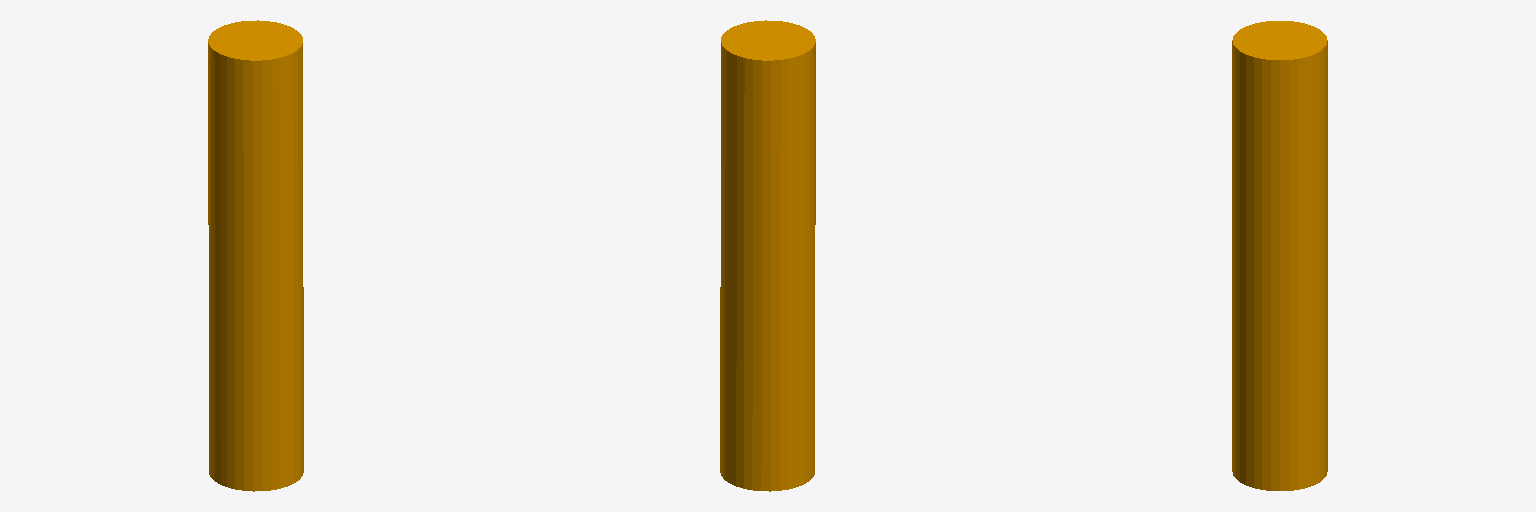
URDF robot description (ur5e):
<?xml version="1.0" encoding="utf-8"?>
<!-- =================================================================================== -->
<!-- |    This document was autogenerated by xacro from ur5e_robot.urdf.xacro          | -->
<!-- |    EDITING THIS FILE BY HAND IS NOT RECOMMENDED                                 | -->
<!-- =================================================================================== -->
<robot name="ur5e" xmlns:xacro="http://ros.org/wiki/xacro">
  <link name="base_link">
    <visual>
      <geometry>
        <mesh filename="../meshes/ur5e/visual/base.dae"/>
      </geometry>
      <material name="LightGrey">
        <color rgba="0.7 0.7 0.7 1.0"/>
      </material>
    </visual>
    <collision>
      <geometry>
        <mesh filename="../meshes/ur5e/collision/base.stl" scale="1.0 1.0 1.0"/>
      </geometry>
    </collision>
    <inertial>
      <mass value="4.0"/>
      <origin rpy="0 0 0" xyz="0.0 0.0 0.0"/>
      <inertia ixx="0.00443333156" ixy="0.0" ixz="0.0" iyy="0.00443333156" iyz="0.0" izz="0.0072"/>
    </inertial>
  </link>
  <joint name="shoulder_pan_joint" type="revolute">
    <parent link="base_link"/>
    <child link="shoulder_link"/>
    <origin rpy="0.0 0.0 0.0" xyz="0.0 0.0 0.163"/>
    <axis xyz="0 0 1"/>
    <limit effort="150.0" lower="-6.28318530718" upper="6.28318530718" velocity="3.14"/>
    <dynamics damping="0.0" friction="0.0"/>
  </joint>
  <link name="shoulder_link">
    <visual>
      <geometry>
        <mesh filename="../meshes/ur5e/visual/shoulder.dae"/>
      </geometry>
      <material name="LightGrey">
        <color rgba="0.7 0.7 0.7 1.0"/>
      </material>
    </visual>
    <collision>
      <geometry>
        <mesh filename="../meshes/ur5e/collision/shoulder.stl" scale="1.0 1.0 1.0"/>
      </geometry>
    </collision>
    <inertial>
      <mass value="3.7"/>
      <origin rpy="0 0 0" xyz="0.0 0.0 0.0"/>
      <inertia ixx="0.010267495893" ixy="0.0" ixz="0.0" iyy="0.010267495893" iyz="0.0" izz="0.00666"/>
    </inertial>
  </link>
  <joint name="shoulder_lift_joint" type="revolute">
    <parent link="shoulder_link"/>
    <child link="upper_arm_link"/>
    <origin rpy="0.0 1.57079632679 0.0" xyz="0.0 0.138 0.0"/>
    <axis xyz="0 1 0"/>
    <limit effort="150.0" lower="-6.28318530718" upper="6.28318530718" velocity="3.14"/>
    <dynamics damping="0.0" friction="0.0"/>
  </joint>
  <link name="upper_arm_link">
    <visual>
      <geometry>
        <mesh filename="../meshes/ur5e/visual/upperarm.dae"/>
      </geometry>
      <material name="LightGrey">
        <color rgba="0.7 0.7 0.7 1.0"/>
      </material>
    </visual>
    <collision>
      <geometry>
        <mesh filename="../meshes/ur5e/collision/upperarm.stl" scale="1.0 1.0 1.0"/>
      </geometry>
    </collision>
    <inertial>
      <mass value="8.393"/>
      <origin rpy="0 0 0" xyz="0.0 0.0 0.2125"/>
      <inertia ixx="0.133885781862" ixy="0.0" ixz="0.0" iyy="0.133885781862" iyz="0.0" izz="0.0151074"/>
    </inertial>
  </link>
  <joint name="elbow_joint" type="revolute">
    <parent link="upper_arm_link"/>
    <child link="forearm_link"/>
    <origin rpy="0.0 0.0 0.0" xyz="0.0 -0.131 0.425"/>
    <axis xyz="0 1 0"/>
    <limit effort="150.0" lower="-3.14159265359" upper="3.14159265359" velocity="3.14"/>
    <dynamics damping="0.0" friction="0.0"/>
  </joint>
  <link name="forearm_link">
    <visual>
      <geometry>
        <mesh filename="../meshes/ur5e/visual/forearm.dae"/>
      </geometry>
      <material name="LightGrey">
        <color rgba="0.7 0.7 0.7 1.0"/>
      </material>
    </visual>
    <collision>
      <geometry>
        <mesh filename="../meshes/ur5e/collision/forearm.stl" scale="1.0 1.0 1.0"/>
      </geometry>
    </collision>
    <inertial>
      <mass value="2.275"/>
      <origin rpy="0 0 0" xyz="0.0 0.0 0.196"/>
      <inertia ixx="0.0311796208615" ixy="0.0" ixz="0.0" iyy="0.0311796208615" iyz="0.0" izz="0.004095"/>
    </inertial>
  </link>
  <joint name="wrist_1_joint" type="revolute">
    <parent link="forearm_link"/>
    <child link="wrist_1_link"/>
    <origin rpy="0.0 1.57079632679 0.0" xyz="0.0 0.0 0.392"/>
    <axis xyz="0 1 0"/>
    <limit effort="28.0" lower="-6.28318530718" upper="6.28318530718" velocity="6.28"/>
    <dynamics damping="0.0" friction="0.0"/>
  </joint>
  <link name="wrist_1_link">
    <visual>
      <geometry>
        <mesh filename="../meshes/ur5e/visual/wrist1.dae"/>
      </geometry>
      <material name="LightGrey">
        <color rgba="0.7 0.7 0.7 1.0"/>
      </material>
    </visual>
    <collision>
      <geometry>
        <mesh filename="../meshes/ur5e/collision/wrist1.stl" scale="1.0 1.0 1.0"/>
      </geometry>
    </collision>
    <inertial>
      <mass value="1.219"/>
      <origin rpy="0 0 0" xyz="0.0 0.127 0.0"/>
      <inertia ixx="0.00255989897604" ixy="0.0" ixz="0.0" iyy="0.00255989897604" iyz="0.0" izz="0.0021942"/>
    </inertial>
  </link>
  <joint name="wrist_2_joint" type="revolute">
    <parent link="wrist_1_link"/>
    <child link="wrist_2_link"/>
    <origin rpy="0.0 0.0 0.0" xyz="0.0 0.127 0.0"/>
    <axis xyz="0 0 1"/>
    <limit effort="28.0" lower="-6.28318530718" upper="6.28318530718" velocity="6.28"/>
    <dynamics damping="0.0" friction="0.0"/>
  </joint>
  <link name="wrist_2_link">
    <visual>
      <geometry>
        <mesh filename="../meshes/ur5e/visual/wrist2.dae"/>
      </geometry>
      <material name="LightGrey">
        <color rgba="0.7 0.7 0.7 1.0"/>
      </material>
    </visual>
    <collision>
      <geometry>
        <mesh filename="../meshes/ur5e/collision/wrist2.stl" scale="1.0 1.0 1.0"/>
      </geometry>
    </collision>
    <inertial>
      <mass value="1.219"/>
      <origin rpy="0 0 0" xyz="0.0 0.0 0.1"/>
      <inertia ixx="0.00255989897604" ixy="0.0" ixz="0.0" iyy="0.00255989897604" iyz="0.0" izz="0.0021942"/>
    </inertial>
  </link>
  <joint name="wrist_3_joint" type="revolute">
    <parent link="wrist_2_link"/>
    <child link="wrist_3_link"/>
    <origin rpy="0.0 0.0 0.0" xyz="0.0 0.0 0.1"/>
    <axis xyz="0 1 0"/>
    <limit effort="28.0" lower="-6.28318530718" upper="6.28318530718" velocity="6.28"/>
    <dynamics damping="0.0" friction="0.0"/>
  </joint>
  <link name="wrist_3_link">
    <visual>
      <geometry>
        <mesh filename="../meshes/ur5e/visual/wrist3.dae"/>
      </geometry>
      <material name="LightGrey">
        <color rgba="0.7 0.7 0.7 1.0"/>
      </material>
    </visual>
    <collision>
      <geometry>
        <mesh filename="../meshes/ur5e/collision/wrist3.stl" scale="1.0 1.0 1.0"/>
      </geometry>
    </collision>
    <inertial>
      <mass value="0.1879"/>
      <origin rpy="1.57079632679 0 0" xyz="0.0 0.0771 0.0"/>
      <inertia ixx="9.89041005217e-05" ixy="0.0" ixz="0.0" iyy="9.89041005217e-05" iyz="0.0" izz="0.0001321171875"/>
    </inertial>
  </link>
  <joint name="ee_fixed_joint" type="fixed">
    <parent link="wrist_3_link"/>
    <child link="ee_link"/>
    <origin rpy="0.0 0.0 1.57079632679" xyz="0.0 0.1 0.0"/>
  </joint>
  <link name="ee_link">
    <collision>
      <geometry>
        <box size="0.01 0.01 0.01"/>
      </geometry>
      <origin rpy="0 0 0" xyz="-0.01 0 0"/>
    </collision>

  </link>



    <link name="camera_link">
    <collision>
      <geometry>
        <cylinder length=".1" radius="0.01"/>
      </geometry>
      <origin rpy="0 0 0" xyz="0 0 0"/>
    </collision>
    <visual>
      <geometry>
        <cylinder length="0.1" radius="0.01"/>
        <origin rpy="0 0 0" xyz="0 0. 0."/>
      </geometry>
    </visual>

  </link>

  <joint name="camera_fixed_joint" type="fixed">
    <parent link="wrist_2_link"/>
    <child link="camera_link"/>
    <origin rpy="0.0 3.14 0" xyz="0.0 -0.06 0."/>
  </joint>

  <transmission name="shoulder_pan_trans">
    <type>transmission_interface/SimpleTransmission</type>
    <joint name="shoulder_pan_joint">
      <hardwareInterface>hardware_interface/PositionJointInterface</hardwareInterface>
    </joint>
    <actuator name="shoulder_pan_motor">
      <mechanicalReduction>1</mechanicalReduction>
    </actuator>
  </transmission>
  <transmission name="shoulder_lift_trans">
    <type>transmission_interface/SimpleTransmission</type>
    <joint name="shoulder_lift_joint">
      <hardwareInterface>hardware_interface/PositionJointInterface</hardwareInterface>
    </joint>
    <actuator name="shoulder_lift_motor">
      <mechanicalReduction>1</mechanicalReduction>
    </actuator>
  </transmission>
  <transmission name="elbow_trans">
    <type>transmission_interface/SimpleTransmission</type>
    <joint name="elbow_joint">
      <hardwareInterface>hardware_interface/PositionJointInterface</hardwareInterface>
    </joint>
    <actuator name="elbow_motor">
      <mechanicalReduction>1</mechanicalReduction>
    </actuator>
  </transmission>
  <transmission name="wrist_1_trans">
    <type>transmission_interface/SimpleTransmission</type>
    <joint name="wrist_1_joint">
      <hardwareInterface>hardware_interface/PositionJointInterface</hardwareInterface>
    </joint>
    <actuator name="wrist_1_motor">
      <mechanicalReduction>1</mechanicalReduction>
    </actuator>
  </transmission>
  <transmission name="wrist_2_trans">
    <type>transmission_interface/SimpleTransmission</type>
    <joint name="wrist_2_joint">
      <hardwareInterface>hardware_interface/PositionJointInterface</hardwareInterface>
    </joint>
    <actuator name="wrist_2_motor">
      <mechanicalReduction>1</mechanicalReduction>
    </actuator>
  </transmission>
  <transmission name="wrist_3_trans">
    <type>transmission_interface/SimpleTransmission</type>
    <joint name="wrist_3_joint">
      <hardwareInterface>hardware_interface/PositionJointInterface</hardwareInterface>
    </joint>
    <actuator name="wrist_3_motor">
      <mechanicalReduction>1</mechanicalReduction>
    </actuator>
  </transmission>
  <gazebo reference="shoulder_link">
    <selfCollide>true</selfCollide>
  </gazebo>
  <gazebo reference="upper_arm_link">
    <selfCollide>true</selfCollide>
  </gazebo>
  <gazebo reference="forearm_link">
    <selfCollide>true</selfCollide>
  </gazebo>
  <gazebo reference="wrist_1_link">
    <selfCollide>true</selfCollide>
  </gazebo>
  <gazebo reference="wrist_3_link">
    <selfCollide>true</selfCollide>
  </gazebo>
  <gazebo reference="wrist_2_link">
    <selfCollide>true</selfCollide>
  </gazebo>
  <gazebo reference="ee_link">
    <selfCollide>true</selfCollide>
  </gazebo>
  <!-- ROS base_link to UR 'Base' Coordinates transform -->
  <link name="base"/>
  <joint name="base_link-base_fixed_joint" type="fixed">
    <!-- NOTE: this rotation is only needed as long as base_link itself is
                 not corrected wrt the real robot (ie: rotated over 180
                 degrees)
      -->
    <origin rpy="0 0 -3.14159265359" xyz="0 0 0"/>
    <parent link="base_link"/>
    <child link="base"/>
  </joint>
  <!-- Frame coincident with all-zeros TCP on UR controller -->
  <link name="tool0"/>
  <joint name="wrist_3_link-tool0_fixed_joint" type="fixed">
    <origin rpy="-1.57079632679 0 0" xyz="0 0.1 0"/>
    <parent link="wrist_3_link"/>
    <child link="tool0"/>
  </joint>
  <link name="world"/>
  <joint name="world_joint" type="fixed">
    <parent link="world"/>
    <child link="base_link"/>
    <origin rpy="0.0 0.0 0" xyz="0.0 0.0 0.0"/>
  </joint>
</robot>

--- Render facts (derived) ---
The picture shows the robot from 3 angles, left to right: view 1: azimuth 30°, elevation 25°; view 2: azimuth 150°, elevation 25°; view 3: azimuth 270°, elevation 25°; orthographic projection.
Robot: ur5e — 12 links, 11 joints (6 revolute, 5 fixed); root link world; default pose: all joints at 0.
Visible links, largest first — view 1: camera_link; view 2: camera_link; view 3: camera_link.
Link boxes in pixels (x1,y1,x2,y2): camera_link: (208,20,303,491); camera_link: (720,20,815,491); camera_link: (1232,21,1327,490).
Size in the robot's own frame: 0.0202 by 0.02 by 0.1 metres.
0 mesh visuals loaded from 7 distinct referenced files (none loaded); not drawn: 7 (reference not matched to a file when rendering).